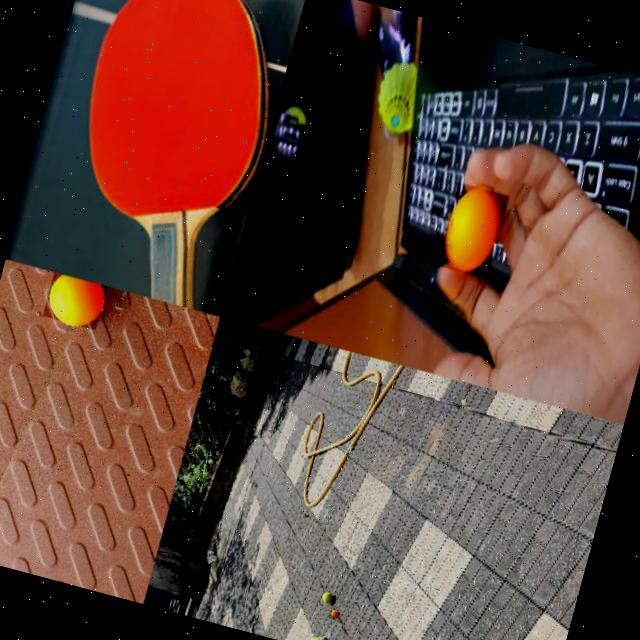ping-pong-ball: (436, 179, 510, 278), (42, 272, 109, 330), (328, 609, 338, 619)
